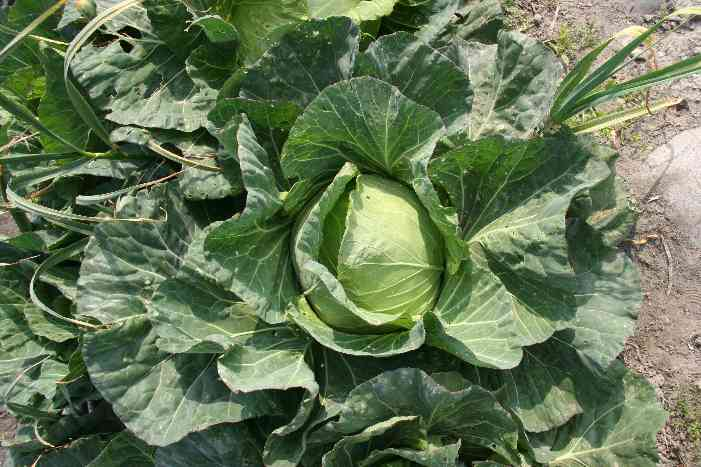cabbage: (64, 9, 673, 465)
